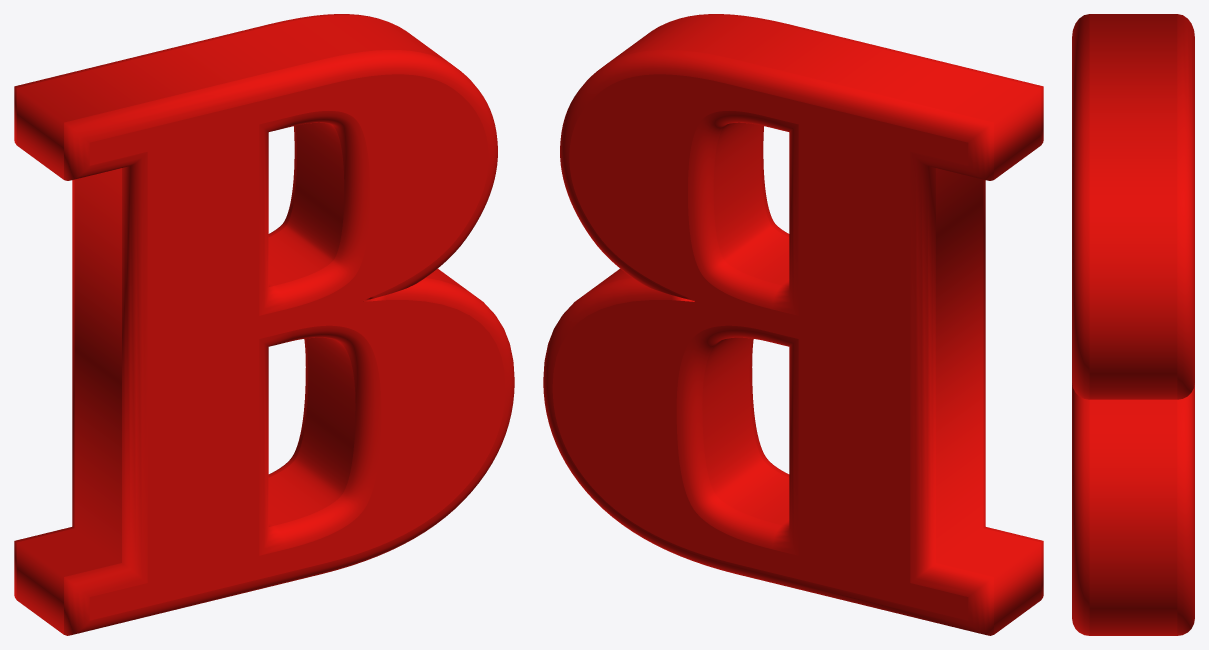
The model's file is capital_b.fbx.
3 views of the same model, side by side, from view 1: azimuth 30°, elevation 25°; view 2: azimuth 150°, elevation 25°; view 3: azimuth 270°, elevation 25° (orthographic). The views are drawn at different scales.
Visible parts, largest first — view 1: Text; view 2: Text; view 3: Text.
Part boxes in pixels (x1,y1,x2,y2): Text: (14, 14, 514, 635); Text: (543, 14, 1043, 635); Text: (1072, 14, 1194, 635).
Size of the model in its own units: 210 by 229 by 53.58.
